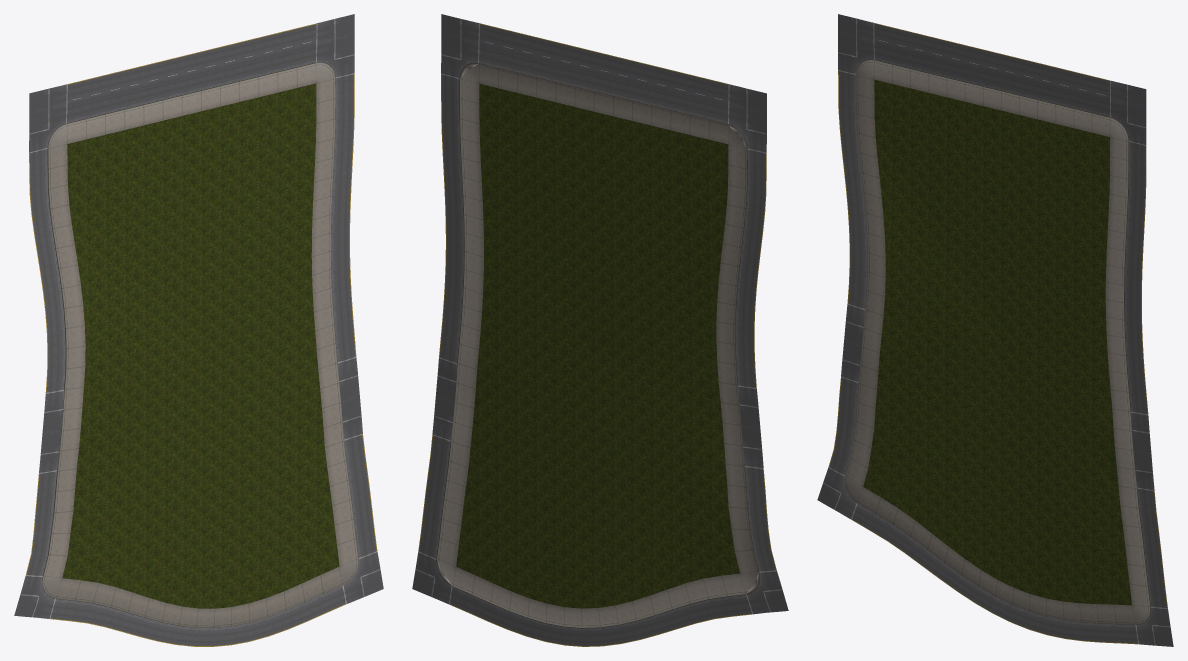
Rendered from block3.obj.
The picture shows the model from 3 angles, left to right: view 1: azimuth 30°, elevation 25°; view 2: azimuth 150°, elevation 25°; view 3: azimuth 330°, elevation 25°; orthographic projection. The views are drawn at different scales.
Visible parts, largest first — view 1: block3; view 2: block3; view 3: block3.
Boxes of the visible parts, x1,y1,x2,y2 form: block3: (14,14,383,646); block3: (412,14,788,646); block3: (817,14,1173,646).
Bounding box in the file's own units: 97.36 × 150 × 1.98.
